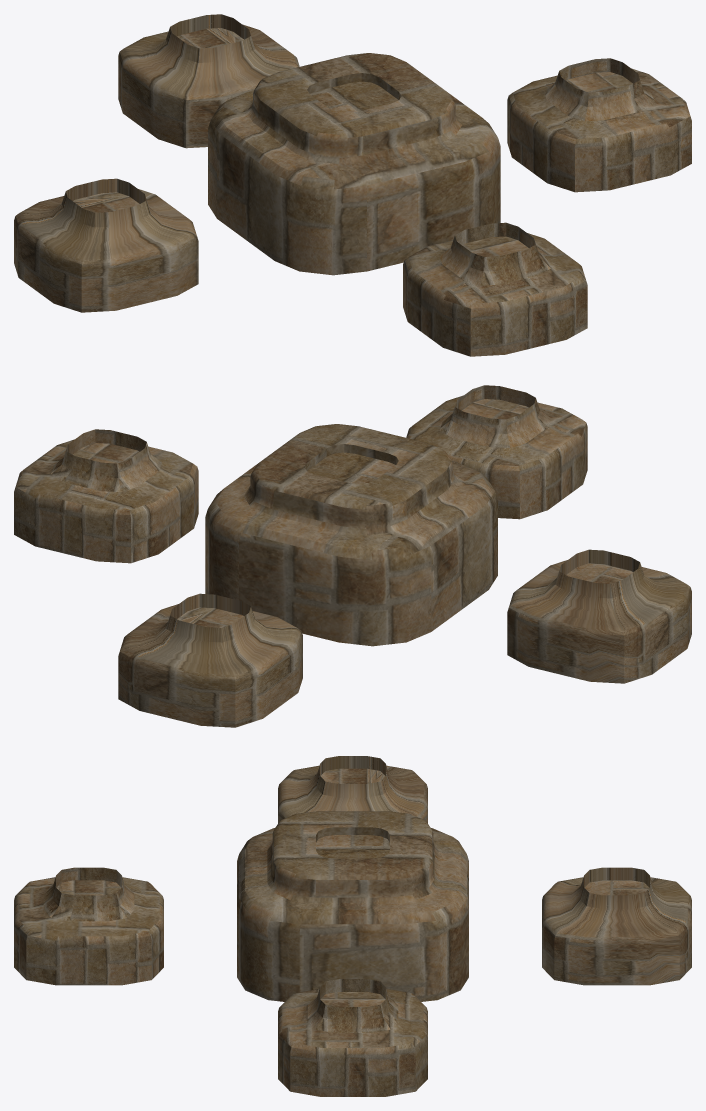
The model's file is pillar.fbx.
3 views of the same model, one above another, from view 1: azimuth 30°, elevation 25°; view 2: azimuth 150°, elevation 25°; view 3: azimuth 270°, elevation 25° (orthographic). The views are drawn at different scales.
Visible parts, largest first — view 1: Main Pillar, Side Pillar, Side Pillar.001, Side Pillar.003, Side Pillar.002; view 2: Main Pillar, Side Pillar, Side Pillar.001, Side Pillar.002, Side Pillar.003; view 3: Main Pillar, Side Pillar.003, Side Pillar.002, Side Pillar, Side Pillar.001.
Part boxes in pixels (bbox=[...]): Main Pillar: bbox=[208, 53, 500, 275]; Side Pillar: bbox=[507, 58, 691, 192]; Side Pillar.001: bbox=[14, 178, 198, 312]; Side Pillar.003: bbox=[403, 222, 587, 356]; Side Pillar.002: bbox=[118, 14, 299, 148]; Main Pillar: bbox=[205, 424, 497, 646]; Side Pillar: bbox=[14, 429, 198, 563]; Side Pillar.001: bbox=[507, 549, 691, 683]; Side Pillar.002: bbox=[118, 593, 302, 727]; Side Pillar.003: bbox=[406, 385, 587, 519]; Main Pillar: bbox=[237, 811, 468, 1001]; Side Pillar.003: bbox=[14, 867, 163, 985]; Side Pillar.002: bbox=[542, 867, 691, 985]; Side Pillar: bbox=[278, 979, 427, 1096]; Side Pillar.001: bbox=[278, 756, 427, 822].
Size of the model in its own units: 1419 by 258 by 1419.
